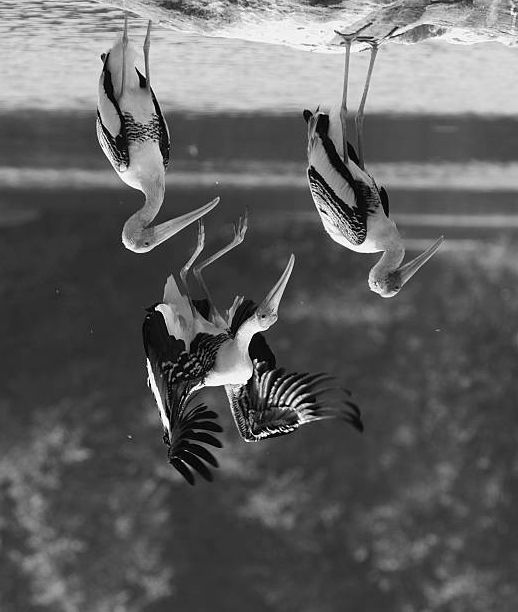Bird: (139, 217, 367, 491), (306, 15, 453, 312), (90, 13, 225, 257)
